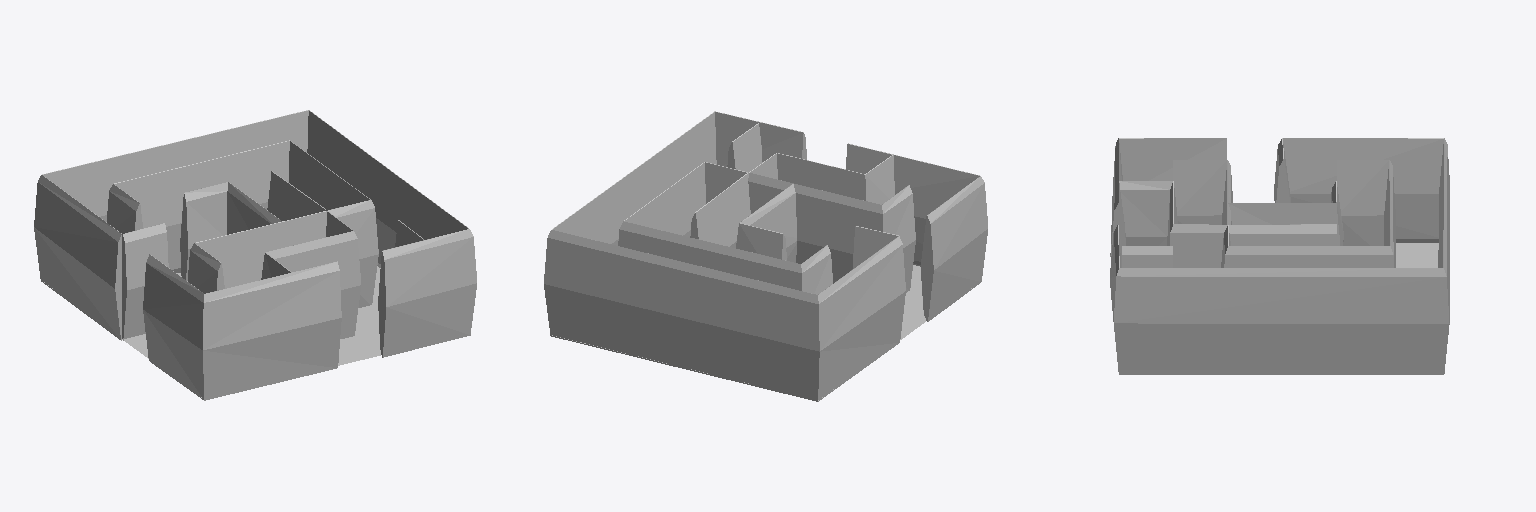
The model's file is Maze.obj.
3 renders of one model, left to right at view 1: azimuth 30°, elevation 25°; view 2: azimuth 150°, elevation 25°; view 3: azimuth 270°, elevation 25°, orthographic.
Parts seen in each view (by area): view 1: Object.1; view 2: Object.1; view 3: Object.1.
Boxes of the visible parts, x1,y1,x2,y2 form: Object.1: [34, 110, 476, 400]; Object.1: [544, 111, 987, 401]; Object.1: [1110, 138, 1449, 374].
Size of the model in its own units: 100 by 36.6 by 106.